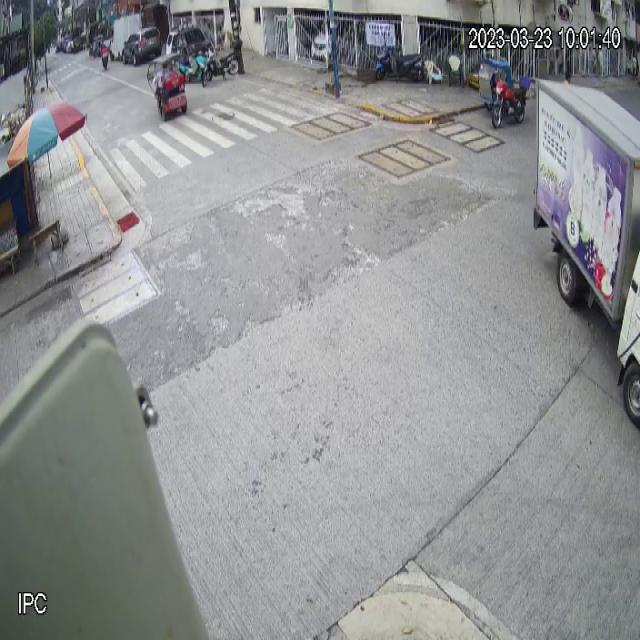Tricycle: (478, 56, 532, 129)
Truck: (534, 78, 640, 436)
